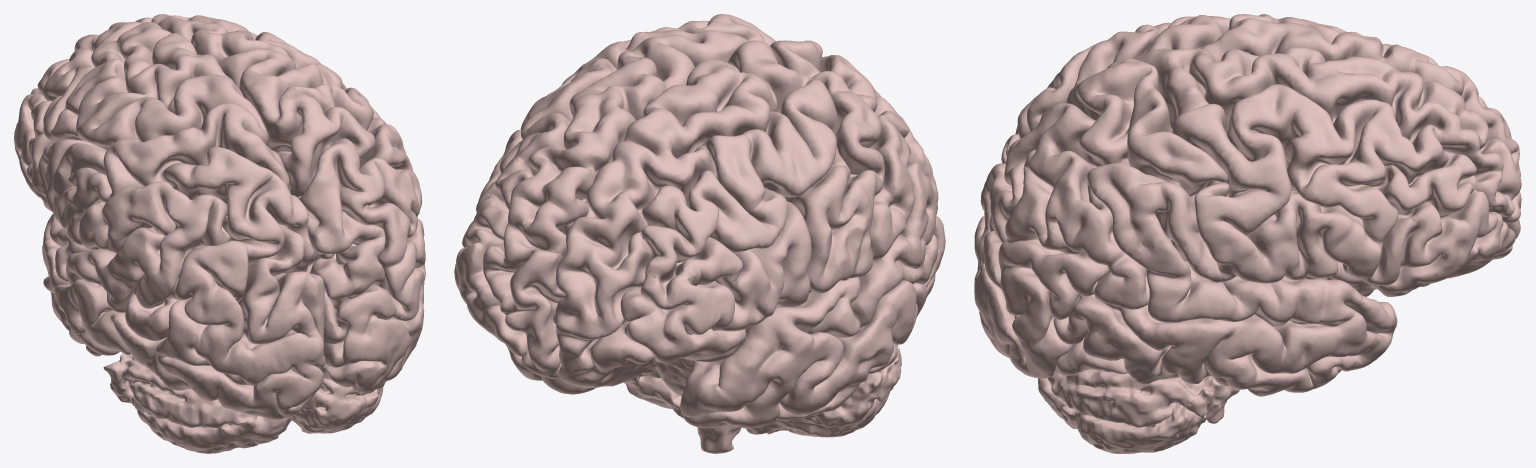
Rendered from brain.glb.
The picture shows the model from 3 angles, left to right: view 1: azimuth 30°, elevation 25°; view 2: azimuth 150°, elevation 25°; view 3: azimuth 270°, elevation 25°; orthographic projection. The views are drawn at different scales.
Visible parts, largest first — view 1: Object_4, Object_3, Object_2, Object_5; view 2: Object_4, Object_3, Object_2, Object_5; view 3: Object_3, Object_2, Object_5, Object_4.
Part boxes in pixels (x1,y1,x2,y2): Object_4: (14,21,425,419); Object_3: (29,14,386,402); Object_2: (103,19,423,453); Object_5: (214,32,424,378); Object_4: (556,41,945,428); Object_3: (454,35,937,394); Object_2: (521,14,901,453); Object_5: (521,14,771,129); Object_3: (974,14,1521,392); Object_2: (974,47,1512,453); Object_5: (1020,51,1295,396); Object_4: (974,16,1520,378).
Bounding box in the file's own units: 134 × 142 × 182.
